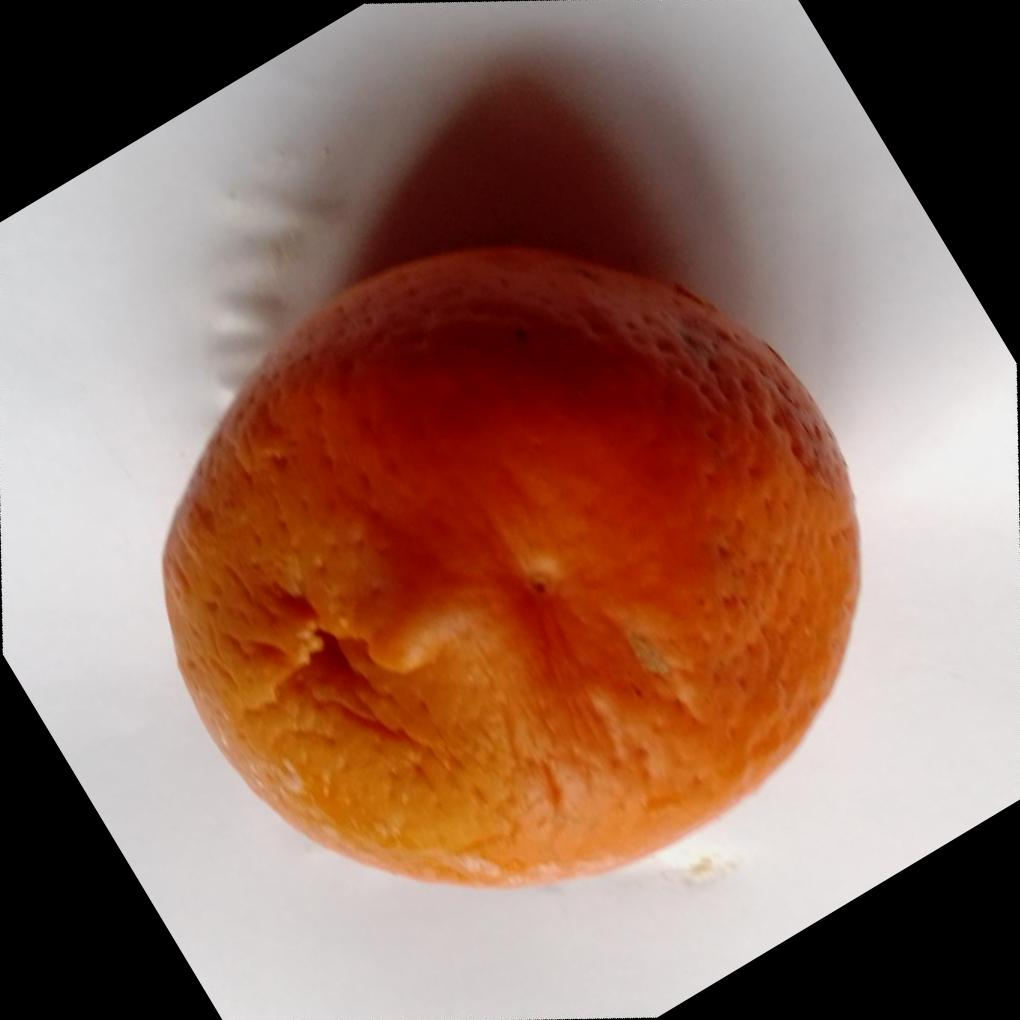FreshOrange: (155, 243, 862, 892)
